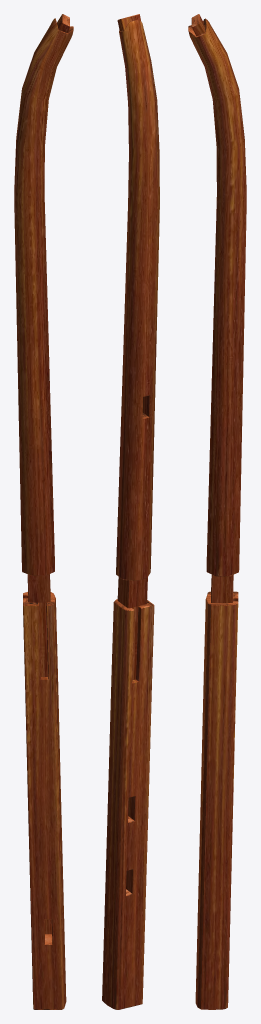
The model's file is GMY_J_houtui_01.FBX.
The picture shows the model from 3 angles, left to right: view 1: azimuth 90°, elevation 25°; view 2: azimuth 210°, elevation 25°; view 3: azimuth 270°, elevation 25°; orthographic projection.
Parts seen in each view (by area): view 1: GMY_J_houtui_01; view 2: GMY_J_houtui_01; view 3: GMY_J_houtui_01.
Part boxes in pixels (box(x1,y1,x2,y2)): GMY_J_houtui_01: box(14, 14, 73, 1009); GMY_J_houtui_01: box(102, 14, 159, 1009); GMY_J_houtui_01: box(188, 14, 246, 1009).
Bounding box in the file's own units: 5.22 × 119 × 6.48.
